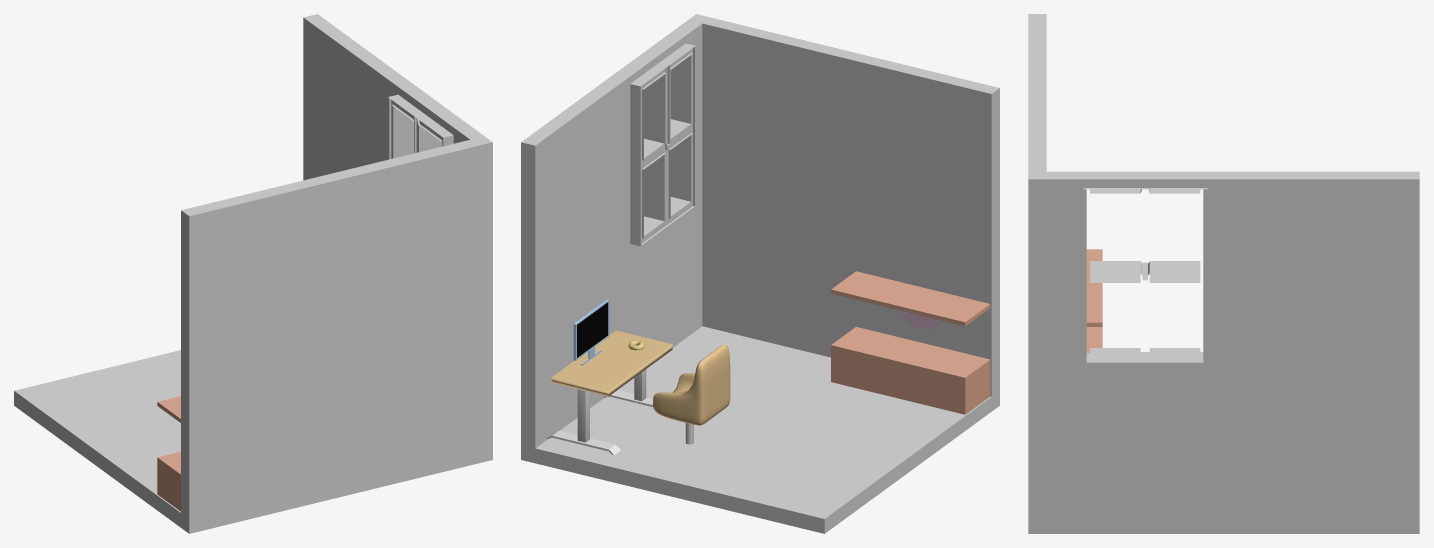
File: Finale2.glb
The picture shows the model from 3 angles, left to right: view 1: azimuth 30°, elevation 25°; view 2: azimuth 150°, elevation 25°; view 3: azimuth 270°, elevation 25°; orthographic projection. The views are drawn at different scales.
Parts seen in each view (by area): view 1: 墙面, 窗户, 立方体; view 2: 墙面, 立方体, 窗户, Cube, 椅子, 电脑, 桌子杆, 桌子腿; view 3: 墙面, 窗户, 立方体.
Part boxes in pixels (x1,y1,x2,y2): 墙面: [14, 14, 492, 533]; 窗户: [388, 94, 453, 159]; 立方体: [157, 396, 180, 511]; 墙面: [521, 14, 999, 533]; 立方体: [831, 271, 990, 414]; 窗户: [630, 43, 695, 246]; Cube: [551, 330, 672, 396]; 椅子: [652, 344, 730, 425]; 电脑: [573, 299, 609, 365]; 桌子杆: [577, 369, 646, 442]; 桌子腿: [546, 390, 652, 455]; 墙面: [1028, 14, 1419, 533]; 窗户: [1084, 188, 1207, 367]; 立方体: [1086, 249, 1102, 352].
Bounding box in the file's own units: 22.69 × 22.52 × 22.52.
